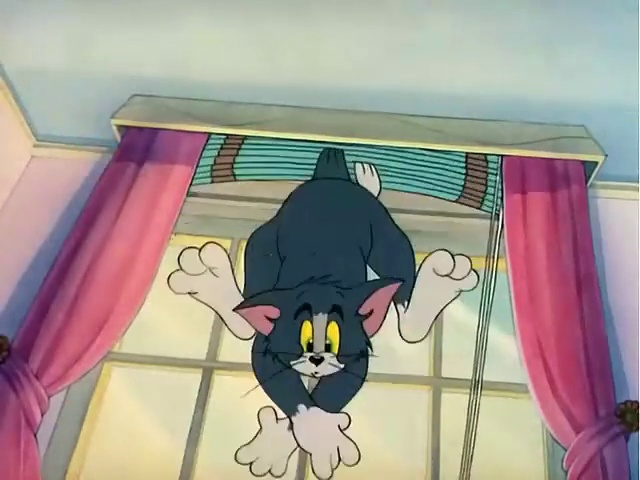tom: (164, 183, 477, 477)
